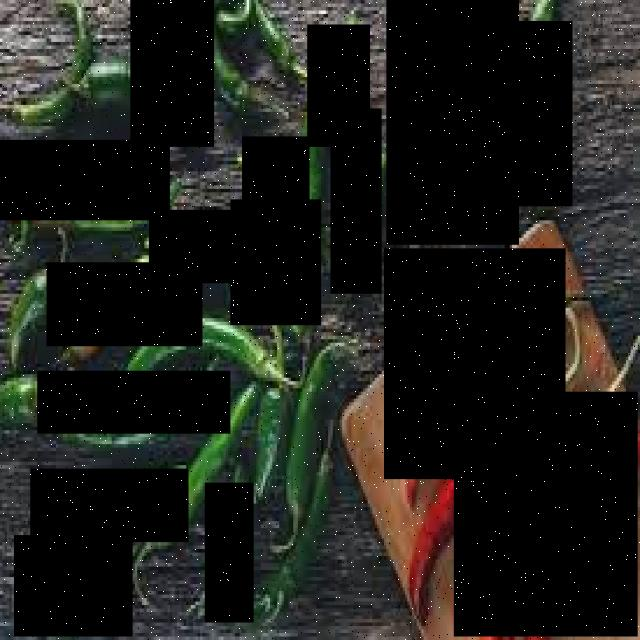Chili_Pepper: (454, 391, 640, 640), (384, 248, 566, 480), (388, 0, 522, 245), (0, 140, 170, 224), (47, 265, 203, 349), (14, 535, 133, 640), (40, 373, 232, 438), (131, 1, 214, 148), (510, 21, 573, 207), (32, 472, 190, 545), (232, 202, 322, 328), (333, 108, 383, 294), (242, 140, 310, 258), (309, 26, 373, 149), (205, 484, 254, 624), (150, 212, 240, 286)
